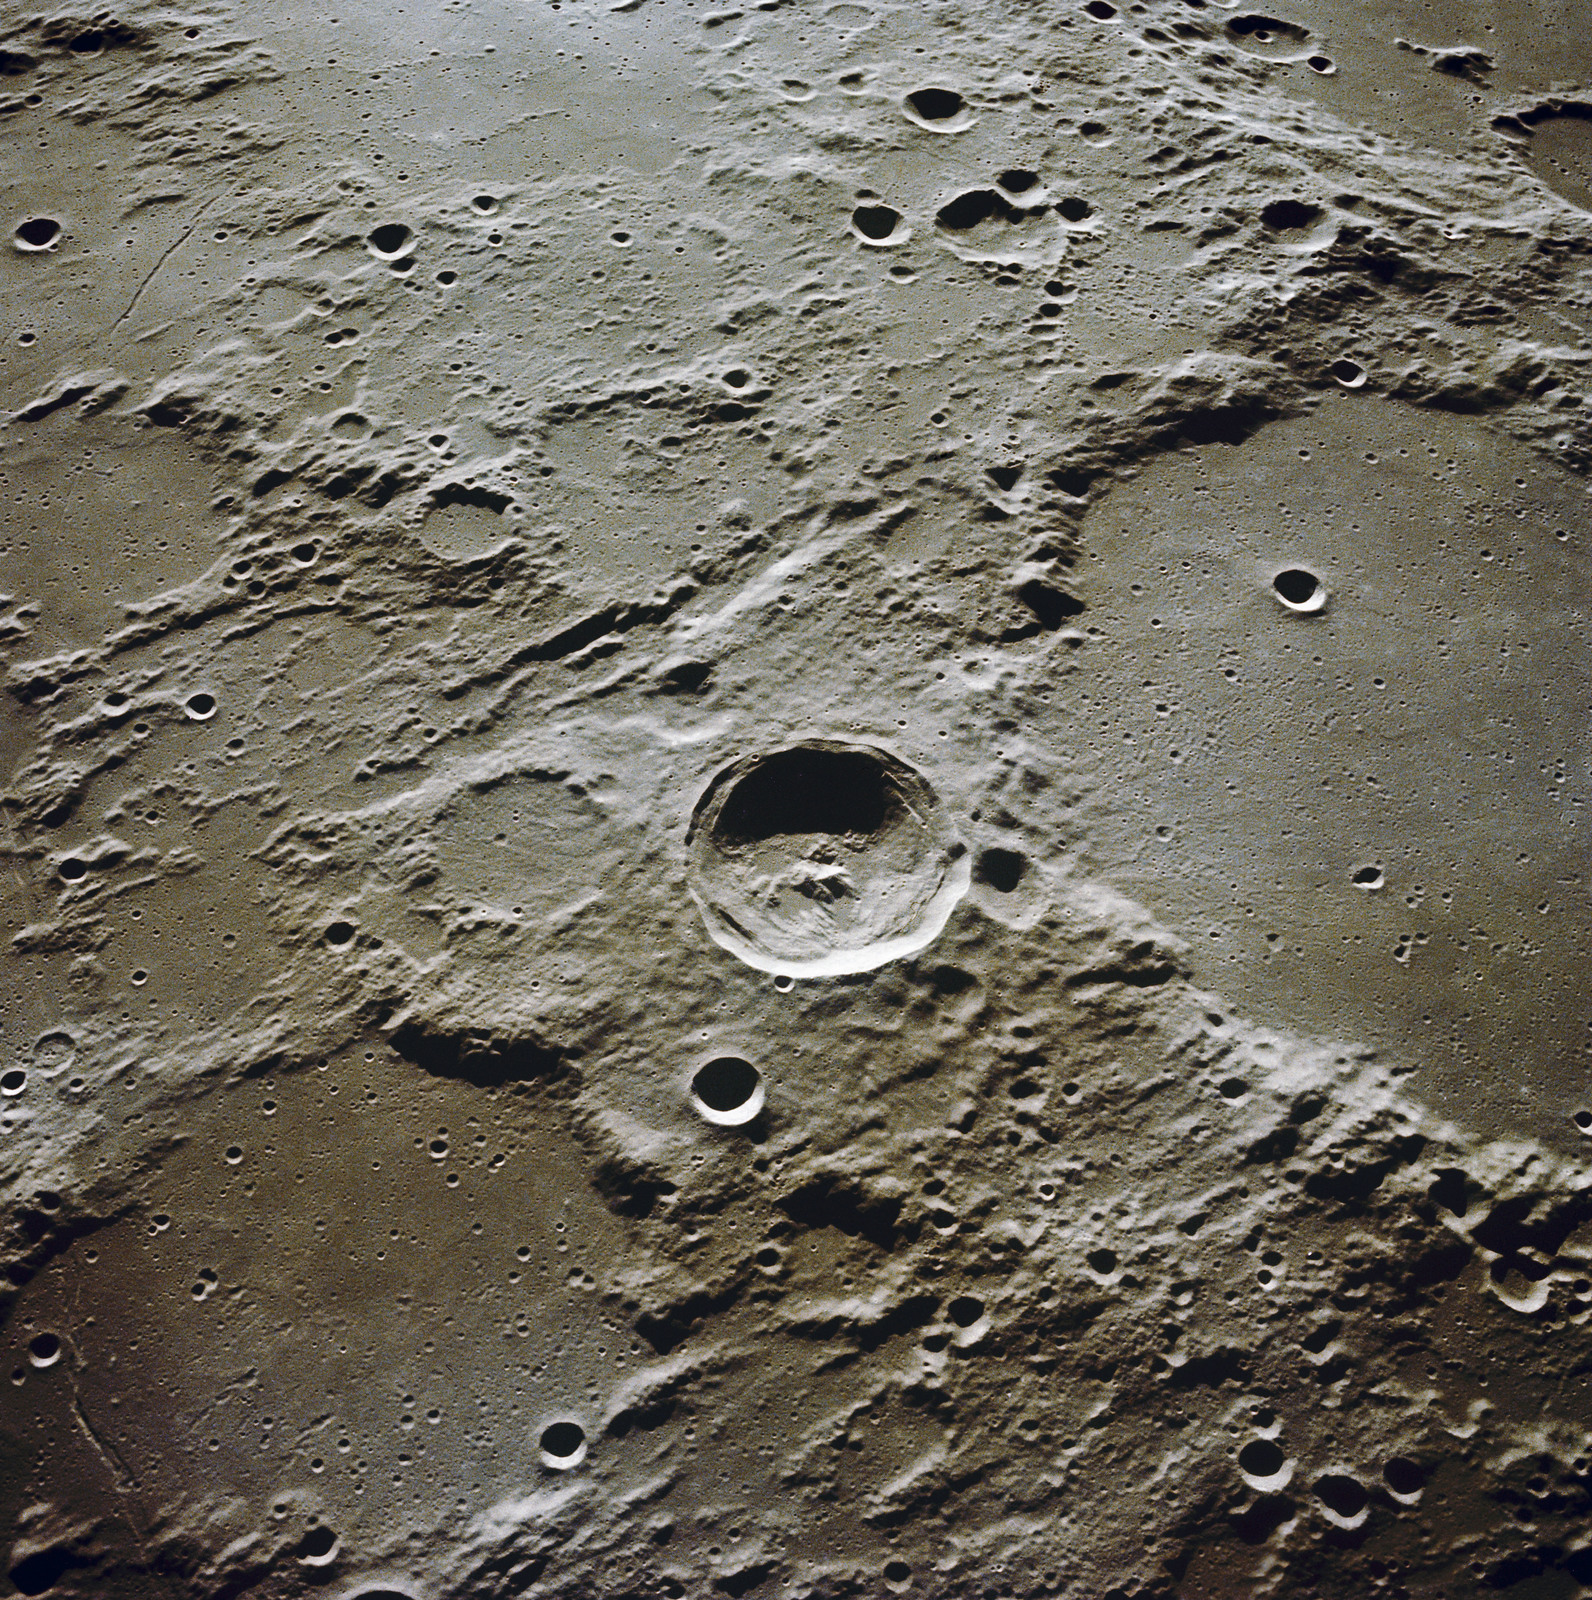crater: (643, 710, 977, 1011), (402, 731, 625, 961), (1177, 500, 1398, 653), (924, 165, 1133, 300), (395, 468, 545, 586), (497, 1351, 609, 1485), (668, 1044, 784, 1146), (28, 1021, 87, 1085), (357, 206, 423, 258)
